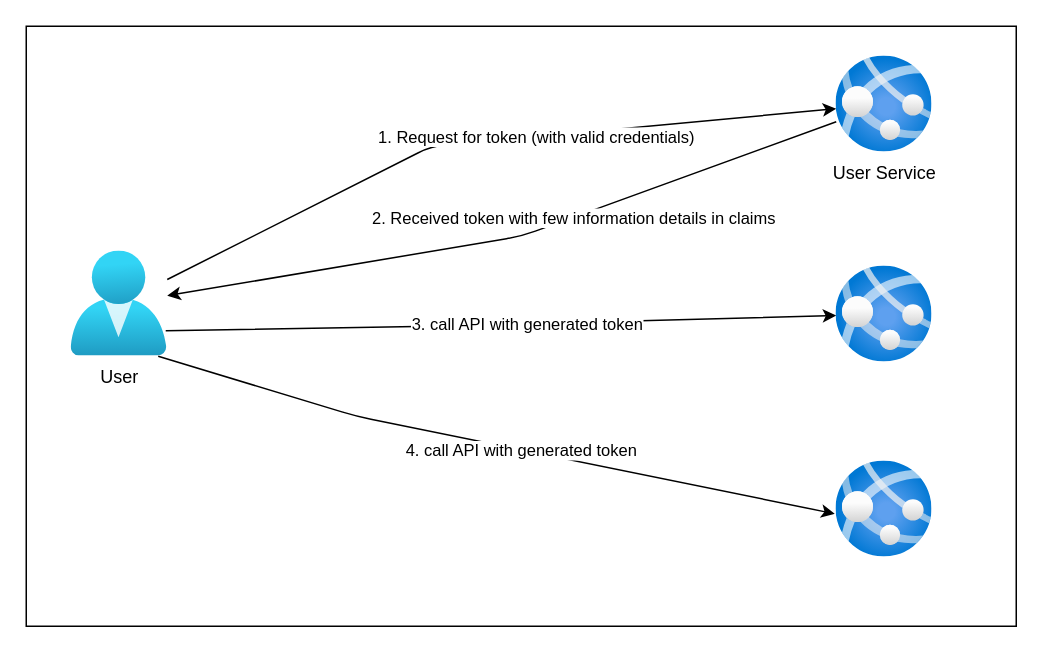
Some shapes in this 1043 by 653 pixel diagram are drawn without their labels. The shapes that lost their labels are listed below. From the top down, each one's centre as x and y in pixels, then its label:
At point 884,314: "Product Service".
At point 884,508: "Inventory Service".
